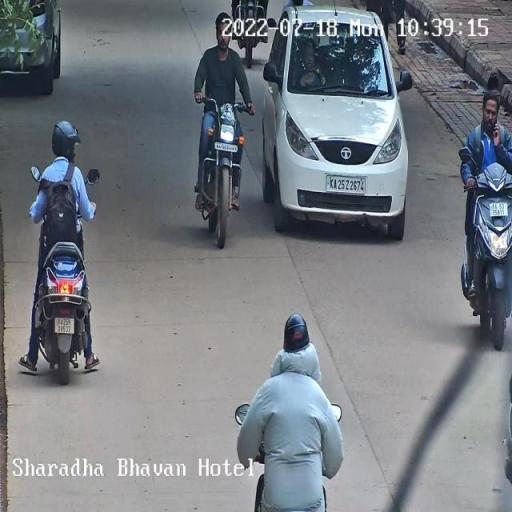using mobile: (493, 103, 502, 147)
